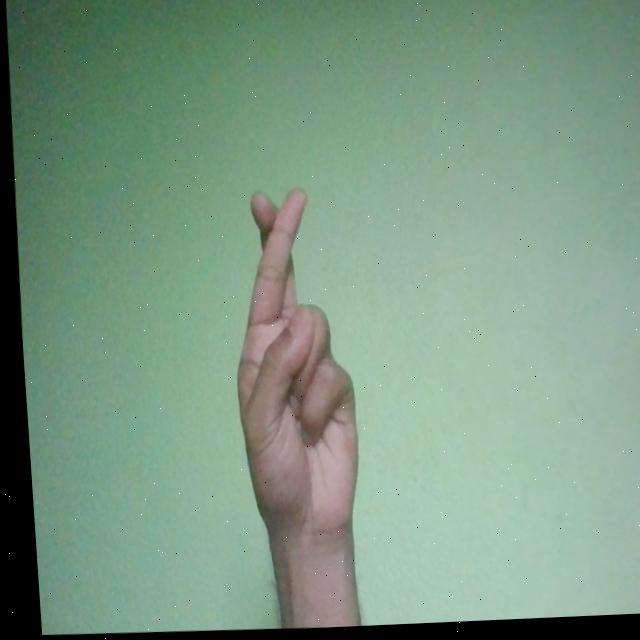Good Luck: (217, 185, 362, 545)
